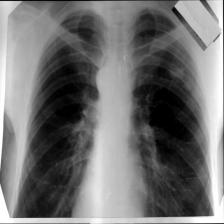tuberculosis: (11, 7, 221, 218)
